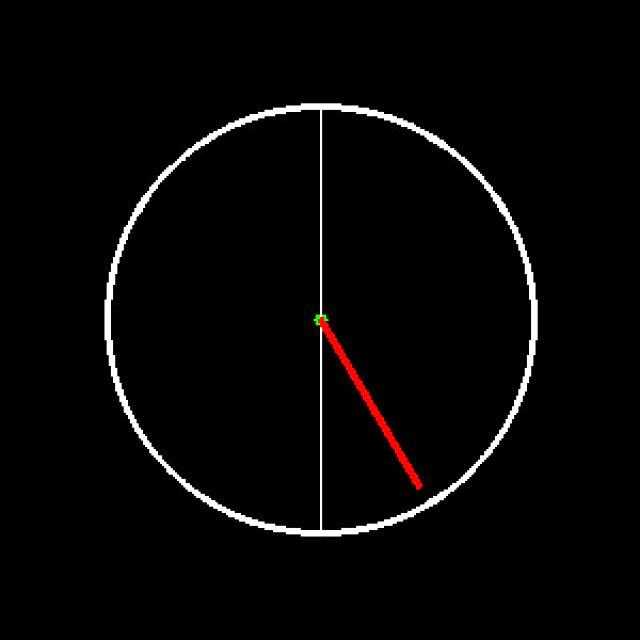Needle_Tip: (393, 459, 439, 500)
Needle_base: (299, 284, 361, 357)
